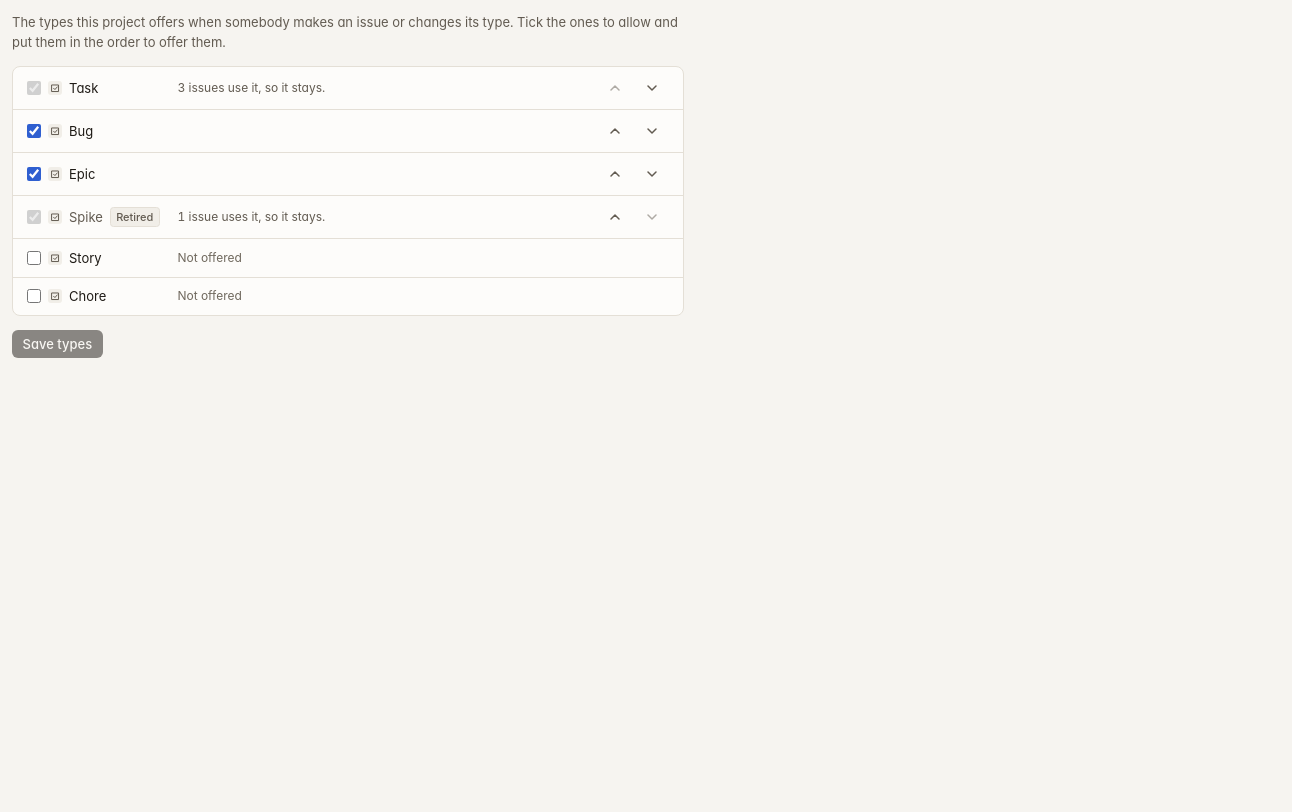
Scenario: the Issue types tab › saves the ticked types in the order shown
The image size is (1292, 812).
Click the checkbox named "Allow Epic" at (34,174), box [27,167,41,181]
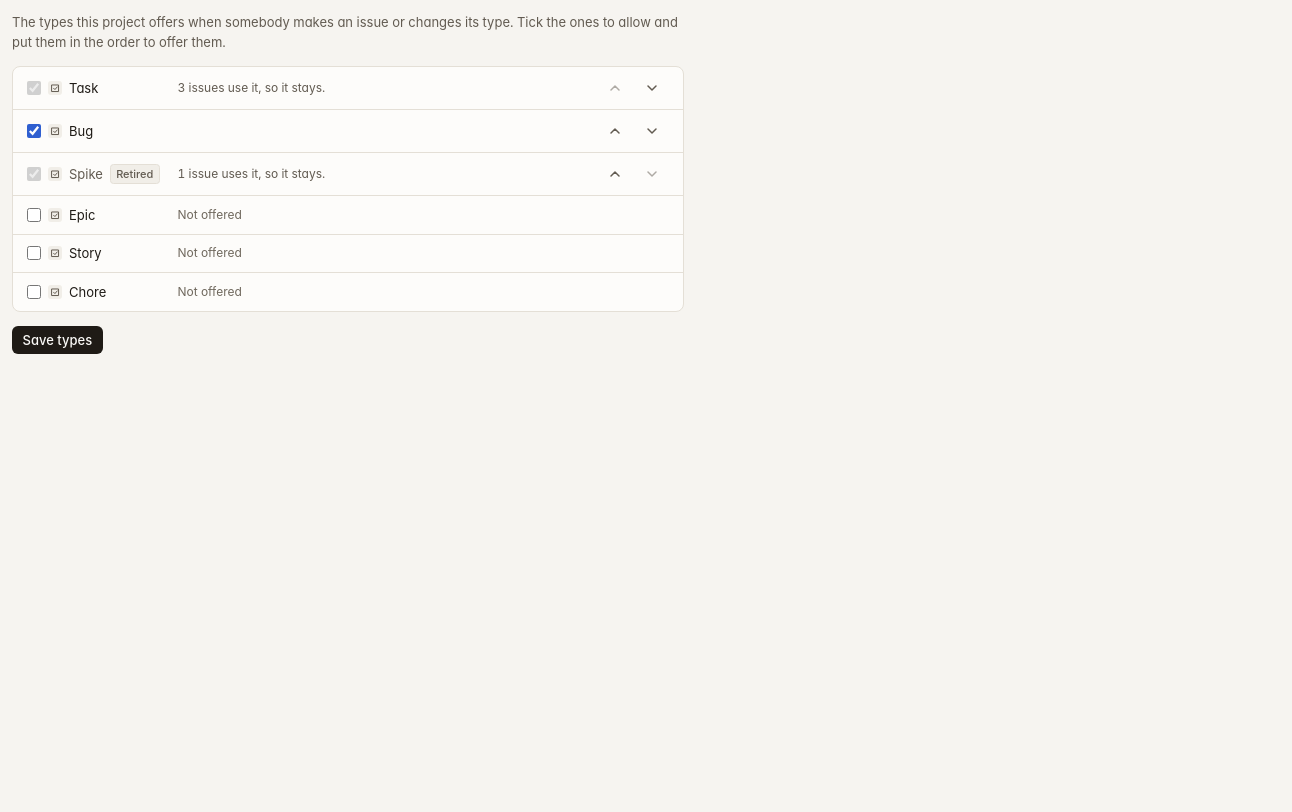
Click the checkbox named "Allow Story" at (34,253), box [27,246,41,260]
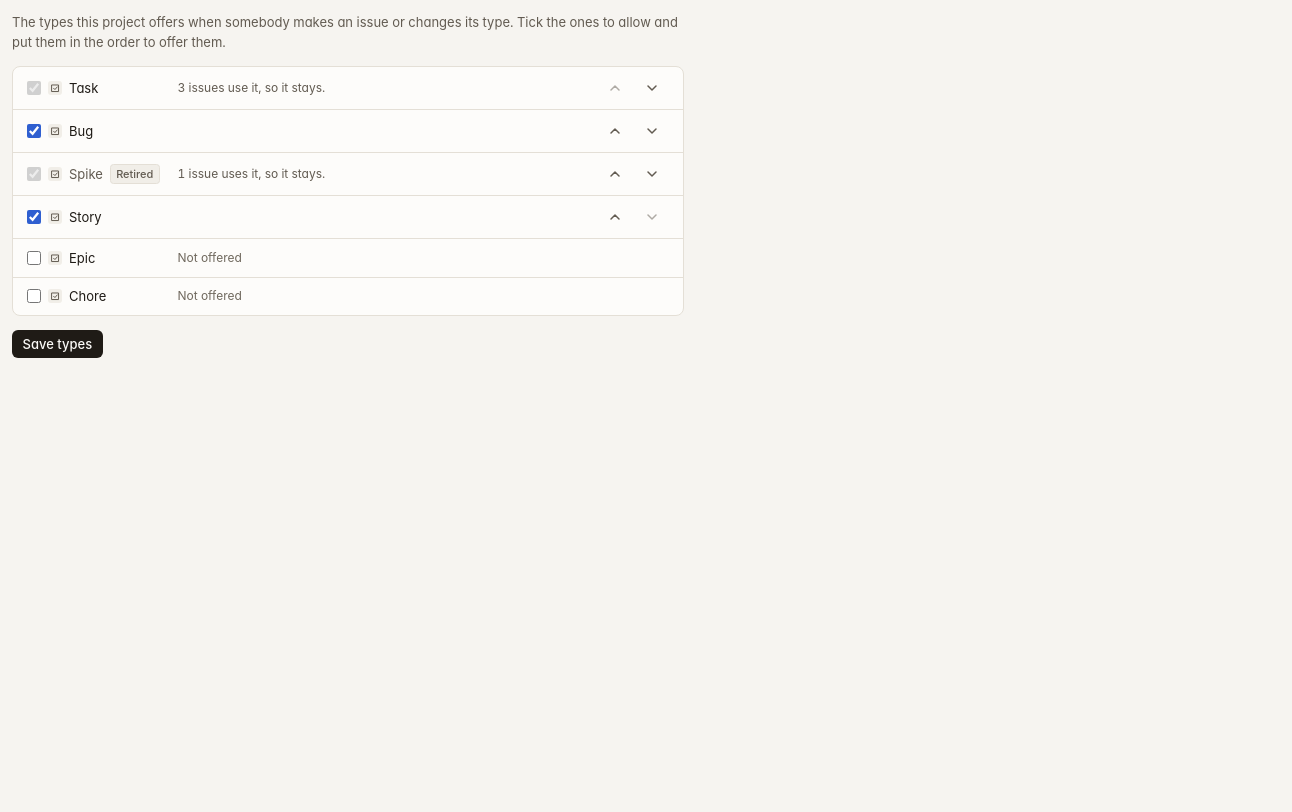
Click the button named "Move Bug earlier" at (615,131), box [598,119,632,143]
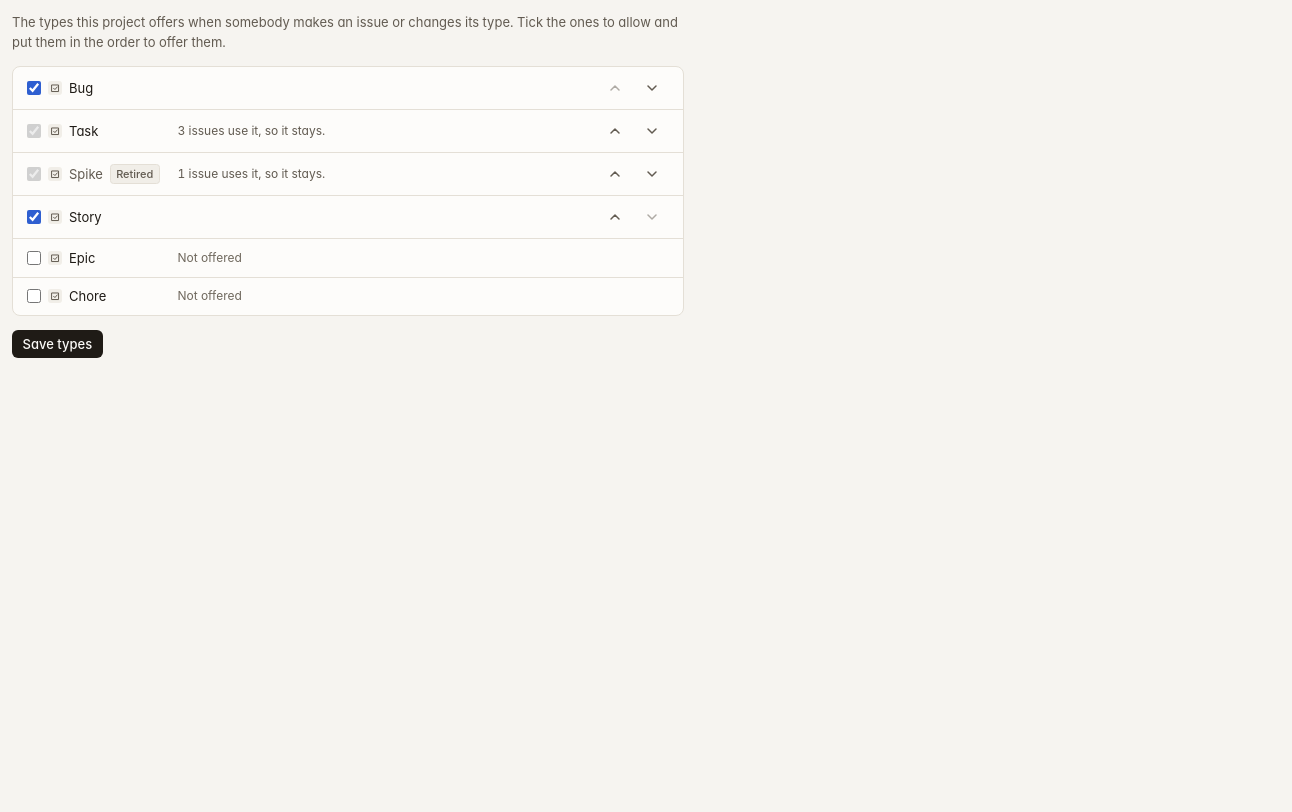
Click the button "Save types" at (57,344), box [12,330,103,358]
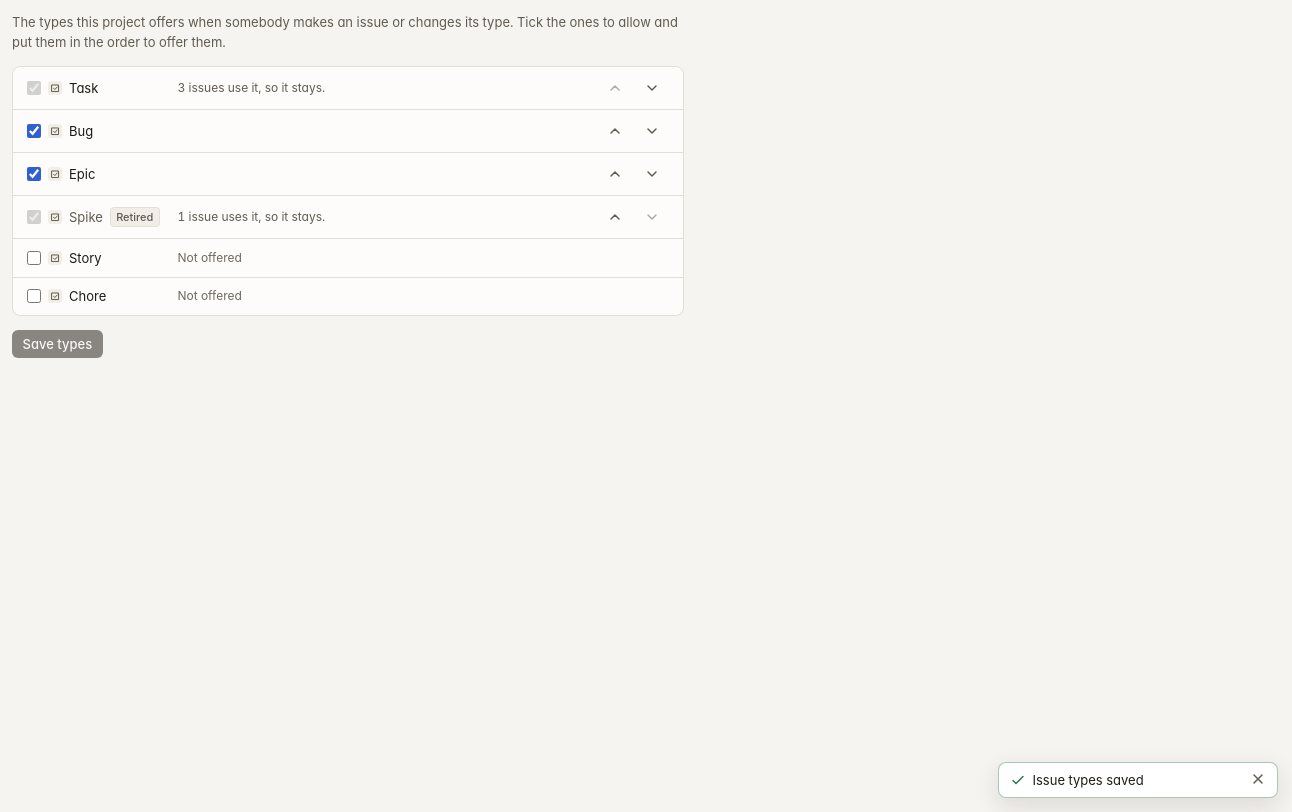
Now the text "Issue types saved" is shown, box [1032,772,1144,788]
